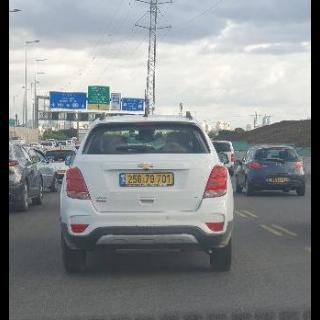LicensePlate: (126, 174, 172, 184)
